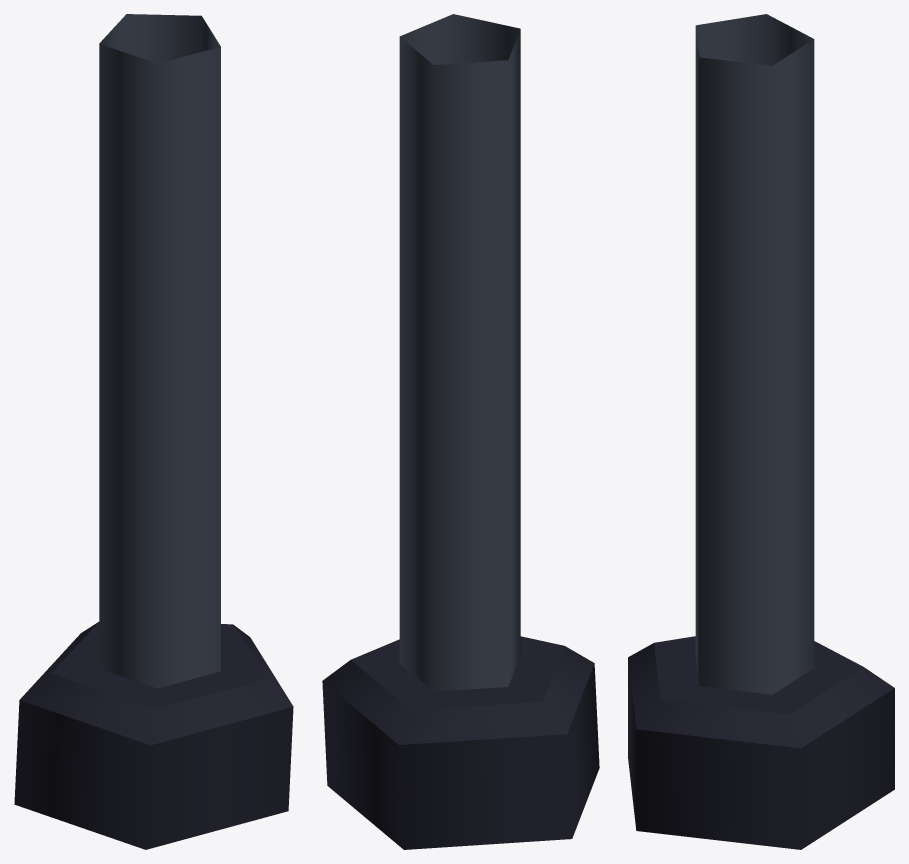
The model's file is Antene_2_E_1h.fbx.
The picture shows the model from 3 angles, left to right: view 1: azimuth 30°, elevation 25°; view 2: azimuth 150°, elevation 25°; view 3: azimuth 270°, elevation 25°; orthographic projection.
Visible parts, largest first — view 1: Antene_2_E_1h; view 2: Antene_2_E_1h; view 3: Antene_2_E_1h.
Part boxes in pixels (left/top/right/bottom): Antene_2_E_1h: left=14, top=14, right=293, bottom=849; Antene_2_E_1h: left=322, top=14, right=599, bottom=849; Antene_2_E_1h: left=628, top=14, right=894, bottom=849.
Bounding box in the file's own units: 18.44 × 54.54 × 17.44.
